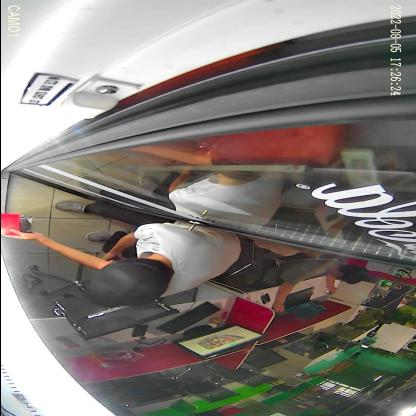red: (0, 214, 32, 236)
